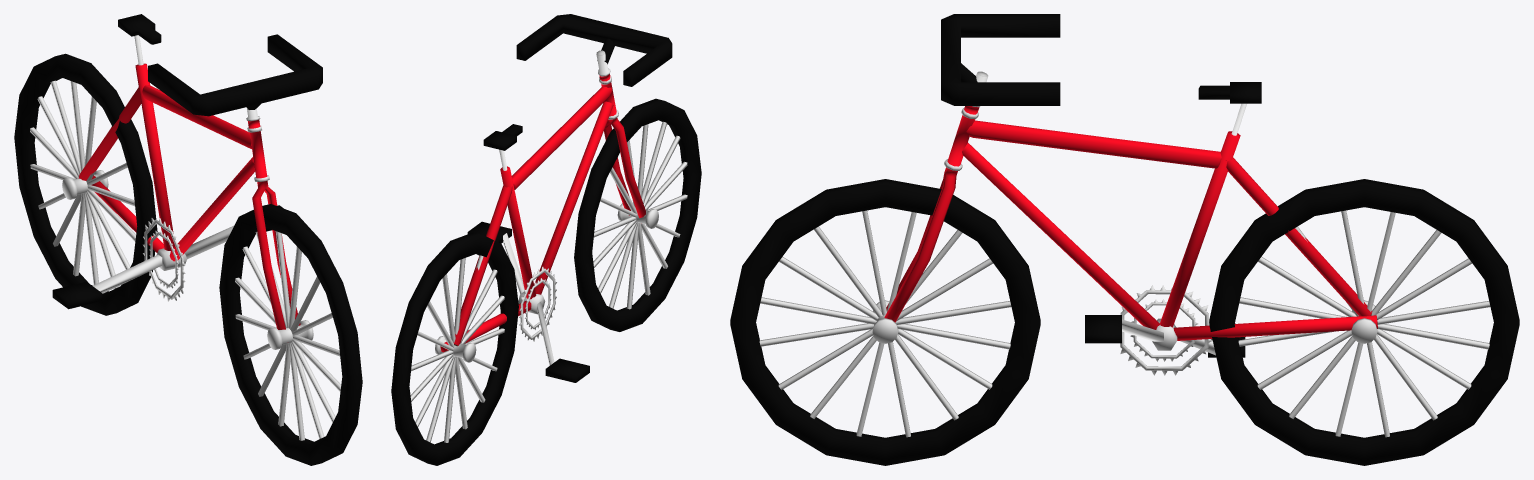
Rendered from Bicicleta.fbx.
3 views of the same model, side by side, from view 1: azimuth 30°, elevation 25°; view 2: azimuth 150°, elevation 25°; view 3: azimuth 270°, elevation 25° (orthographic). The views are drawn at different scales.
Visible parts, largest first — view 1: Bicicleta; view 2: Bicicleta; view 3: Bicicleta.
Boxes of the visible parts, x1,y1,x2,y2 form: Bicicleta: [14, 14, 362, 465]; Bicicleta: [391, 14, 701, 465]; Bicicleta: [730, 14, 1519, 465].
Size of the model in its own units: 68.43 by 132 by 230.
